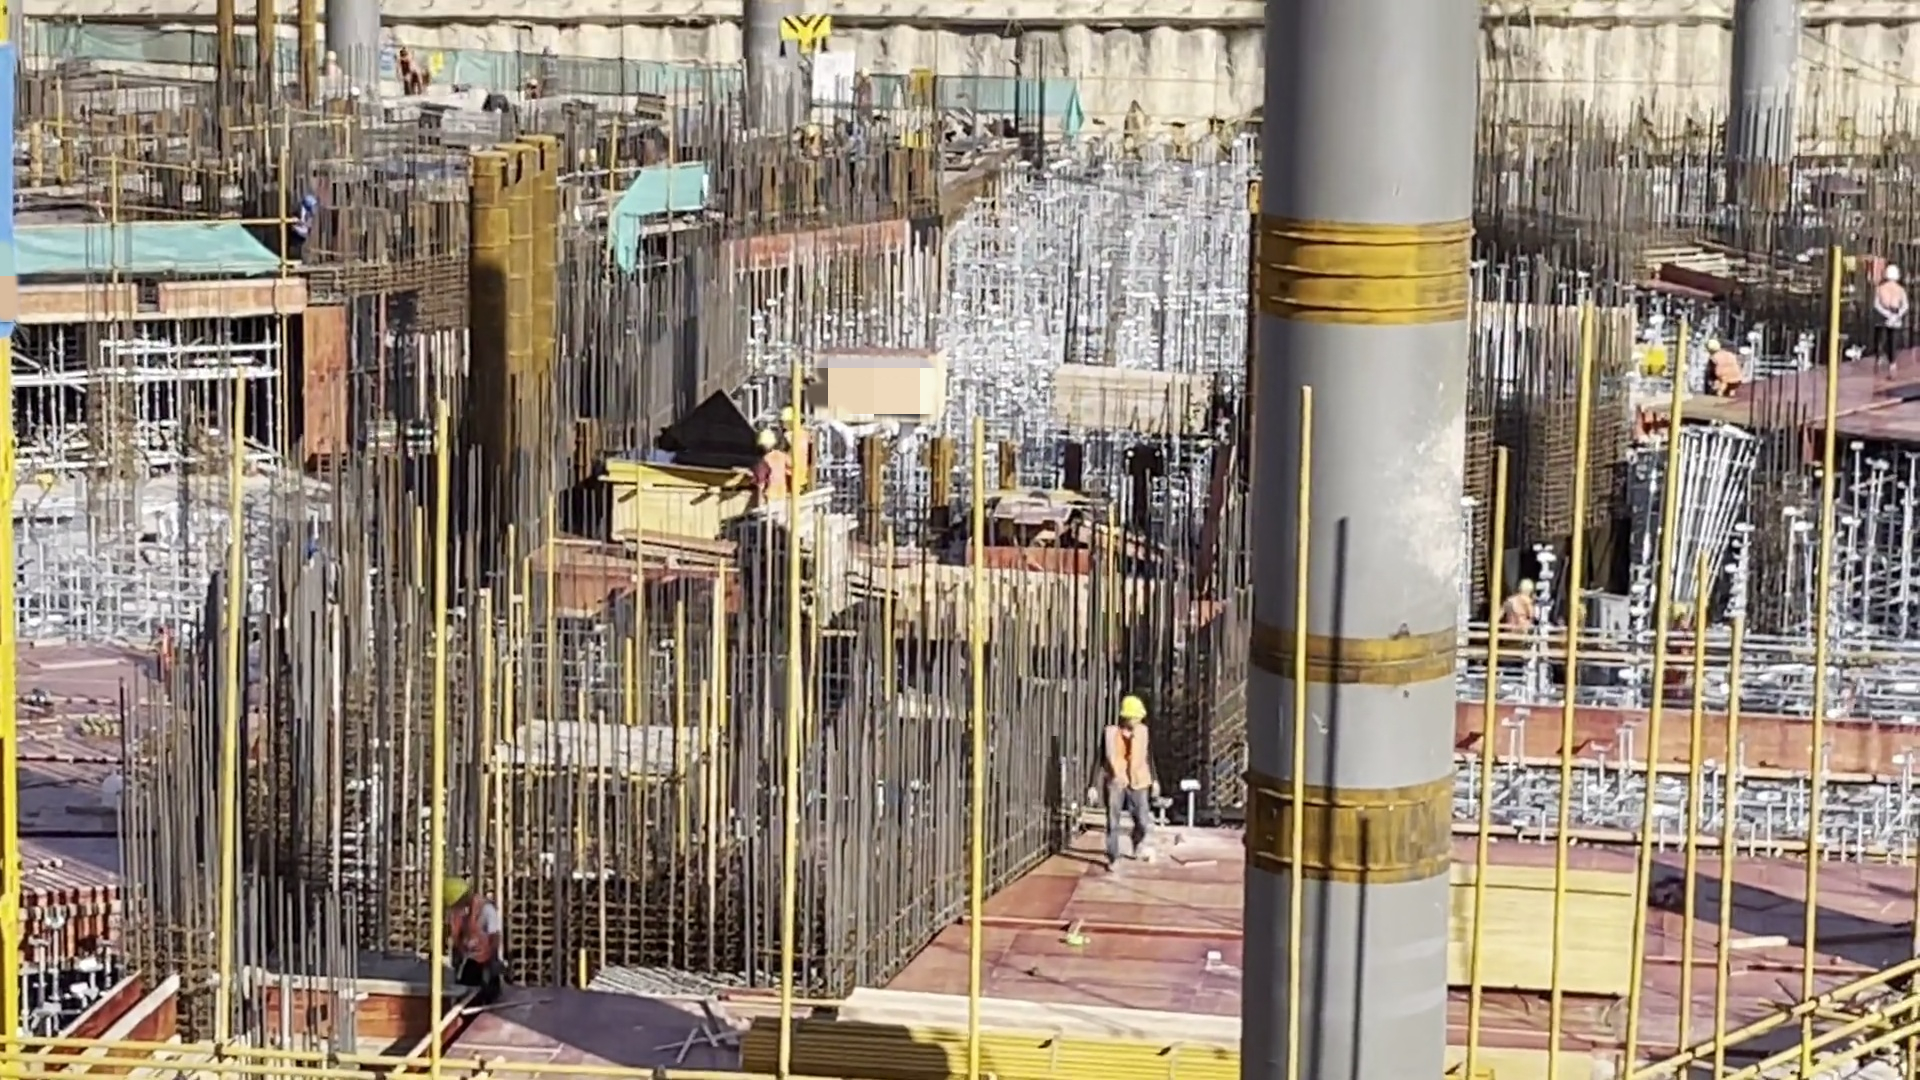helmet: (1114, 693, 1148, 728), (445, 869, 470, 914), (1881, 260, 1905, 288), (758, 427, 780, 458), (1703, 335, 1726, 362), (1514, 575, 1538, 597), (302, 189, 321, 213)
person: (1088, 686, 1172, 855), (439, 863, 500, 997), (1869, 252, 1915, 373), (754, 426, 800, 509), (1498, 574, 1538, 656), (1701, 331, 1748, 397), (291, 193, 322, 262), (408, 65, 438, 98), (397, 40, 415, 73)
vest: (445, 900, 500, 977), (1105, 722, 1159, 797), (1879, 284, 1914, 342), (1500, 595, 1541, 638), (758, 452, 789, 505), (1713, 355, 1742, 390)
